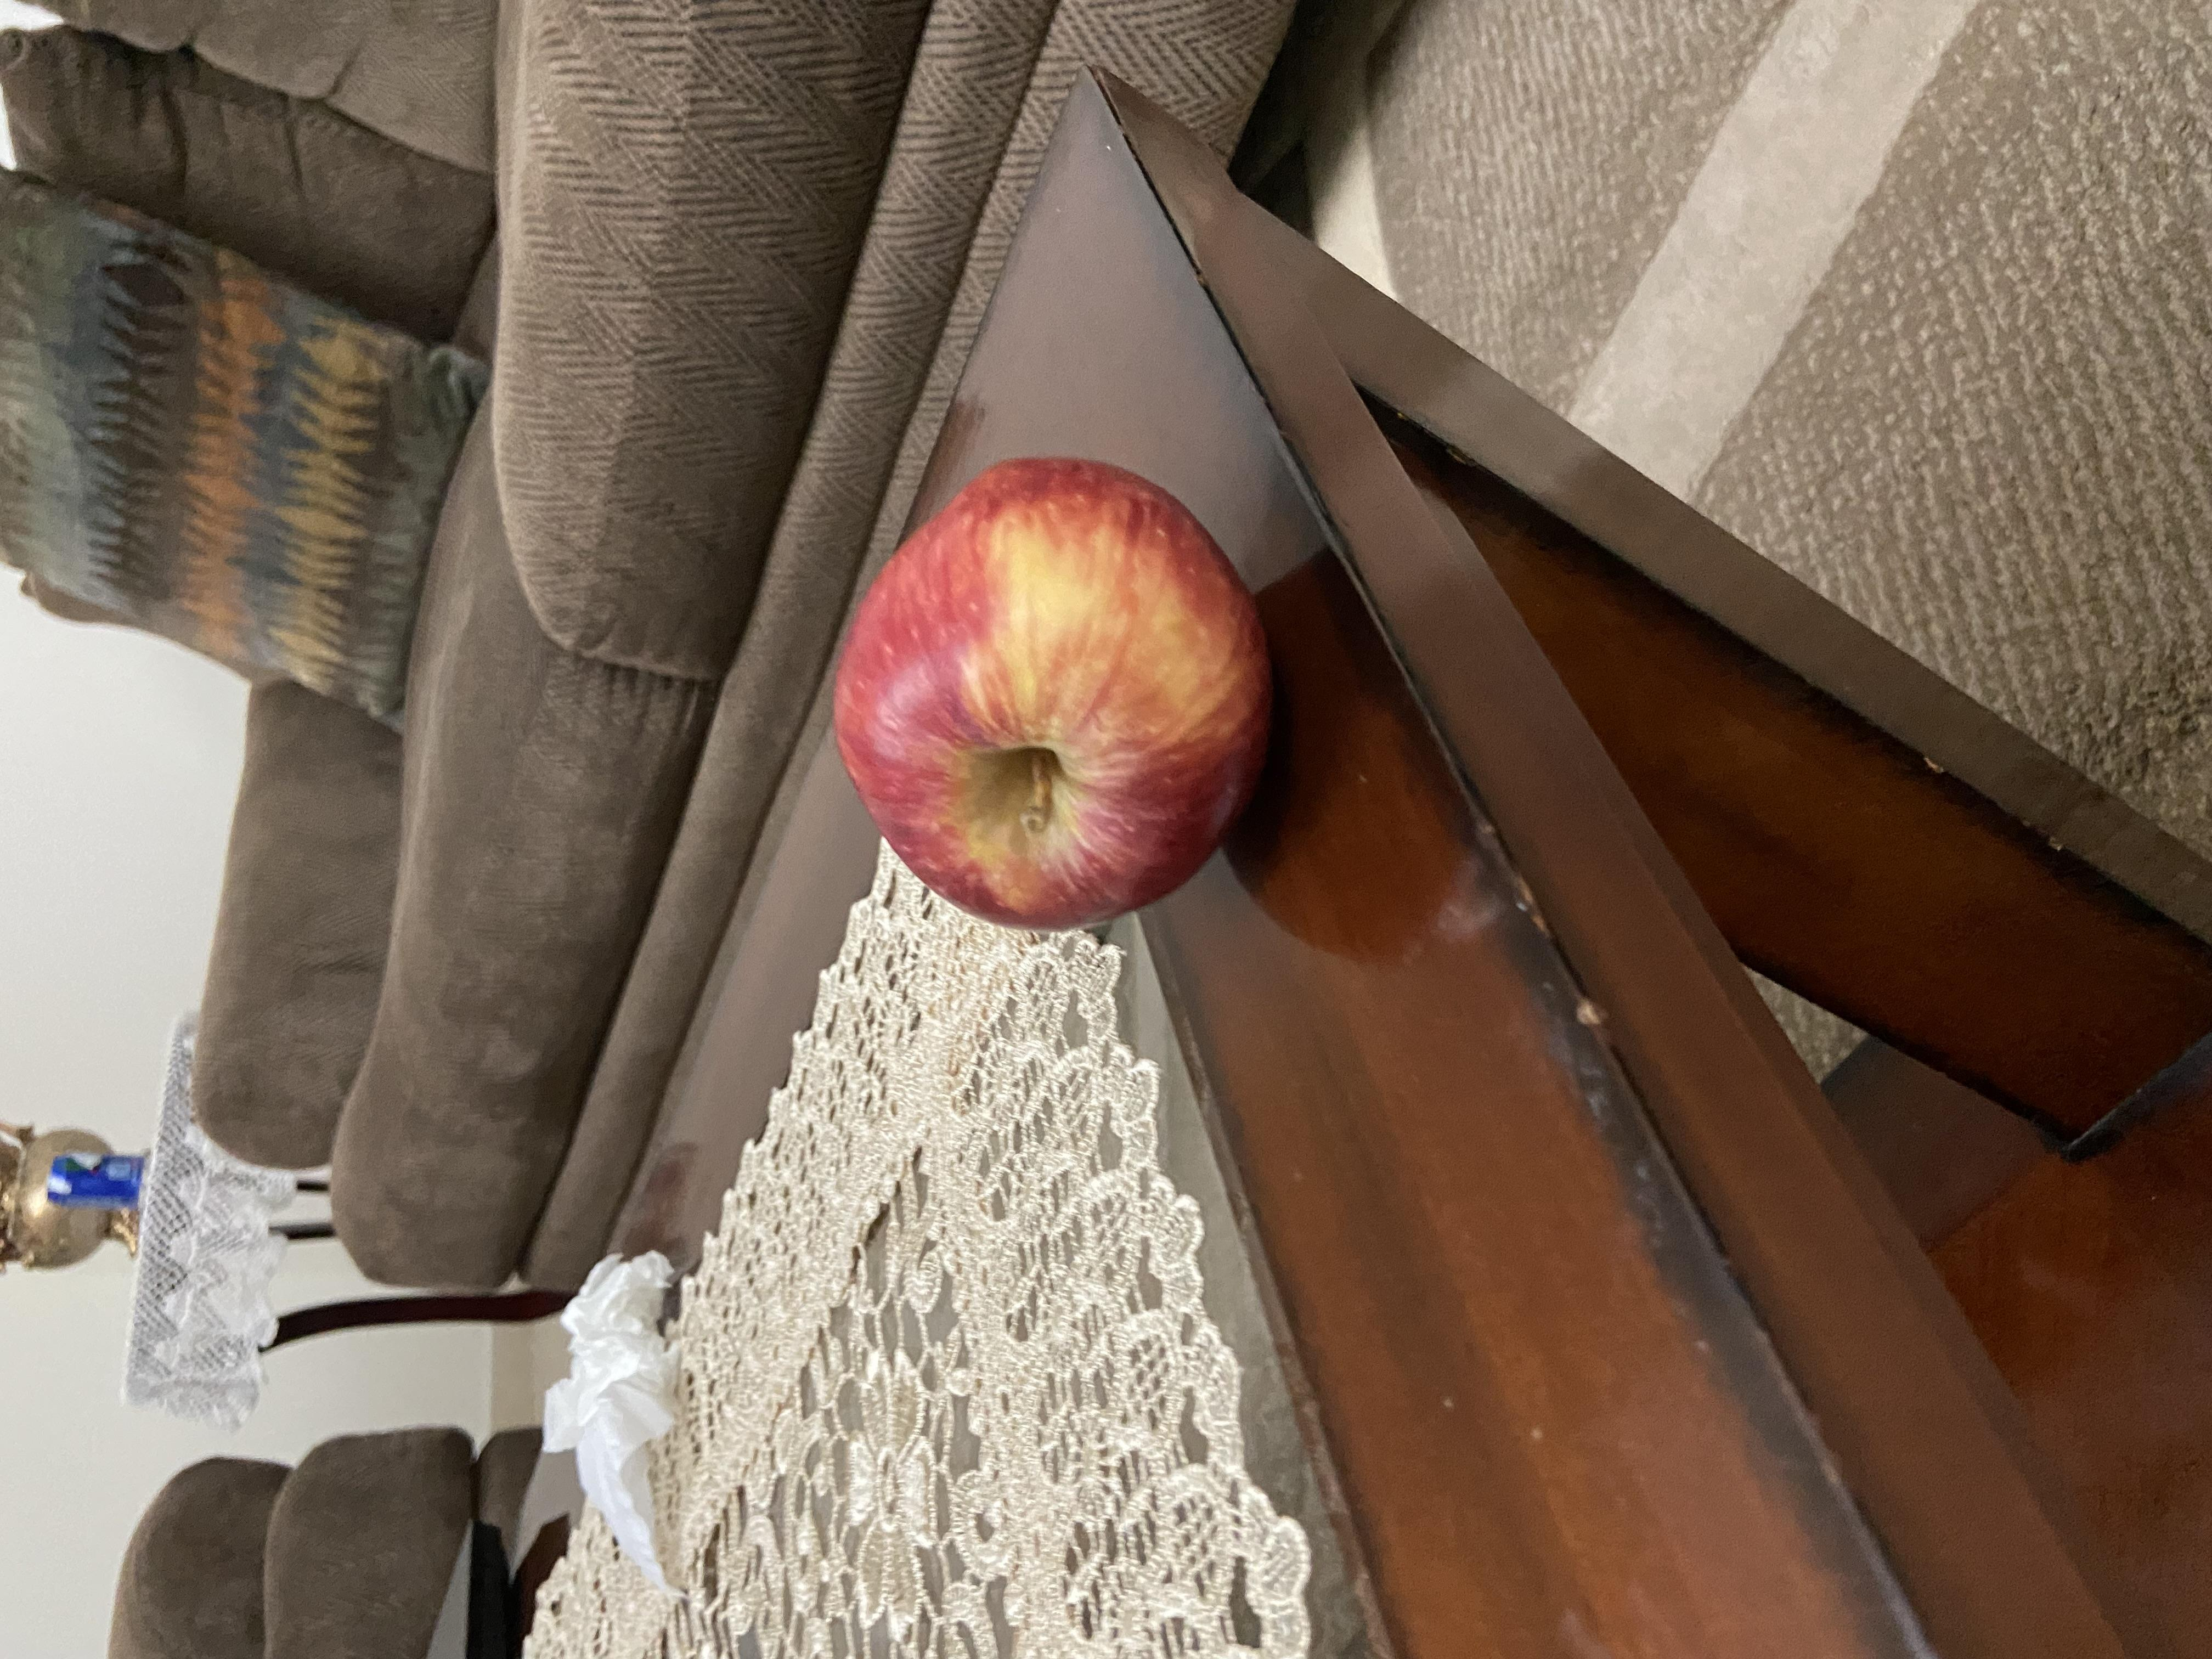Apple: (932, 613, 1618, 962)
